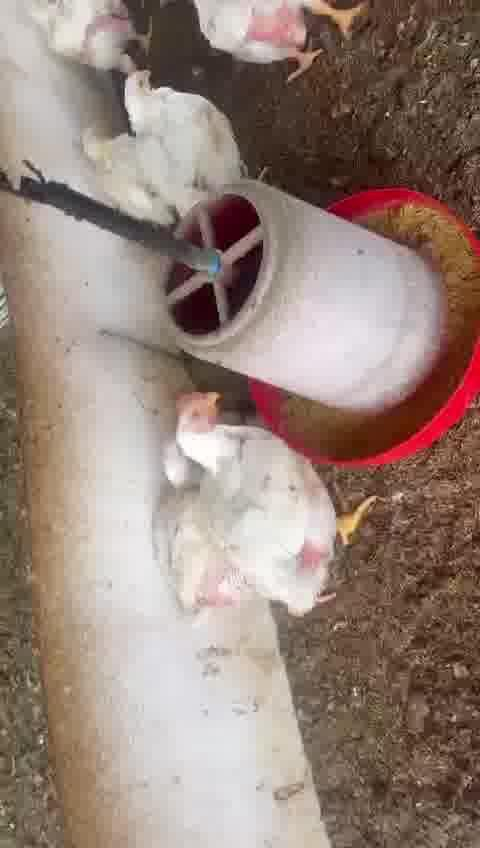Normal: (177, 397, 374, 601), (124, 70, 250, 186), (197, 5, 371, 73)
